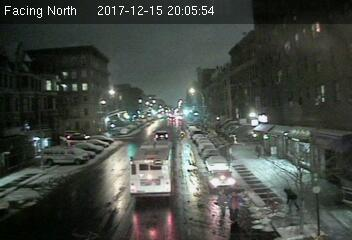bus: (130, 141, 173, 197)
car: (209, 170, 235, 187), (206, 154, 227, 170), (153, 131, 168, 142)
pedestrian: (283, 183, 303, 212)
